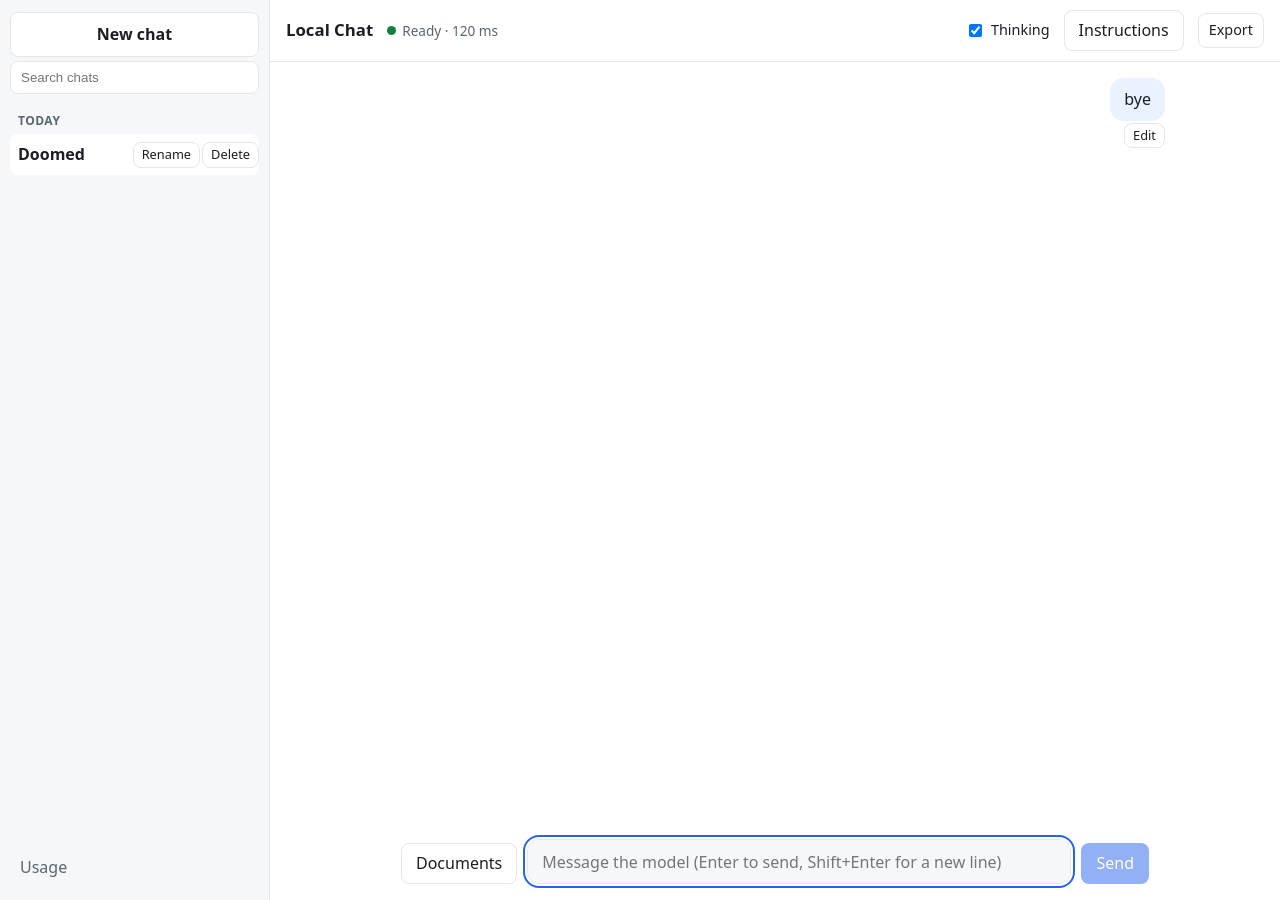
Test: saved conversations › deletes a chat only after confirmation, and leaves the open chat when it is deleted
Expected: the text "bye" is shown, top-left (1110, 78), bottom-right (1165, 121)
Click the button with aria-label "Delete Doomed" at (231, 155), box top-left (202, 142), bottom-right (259, 168)
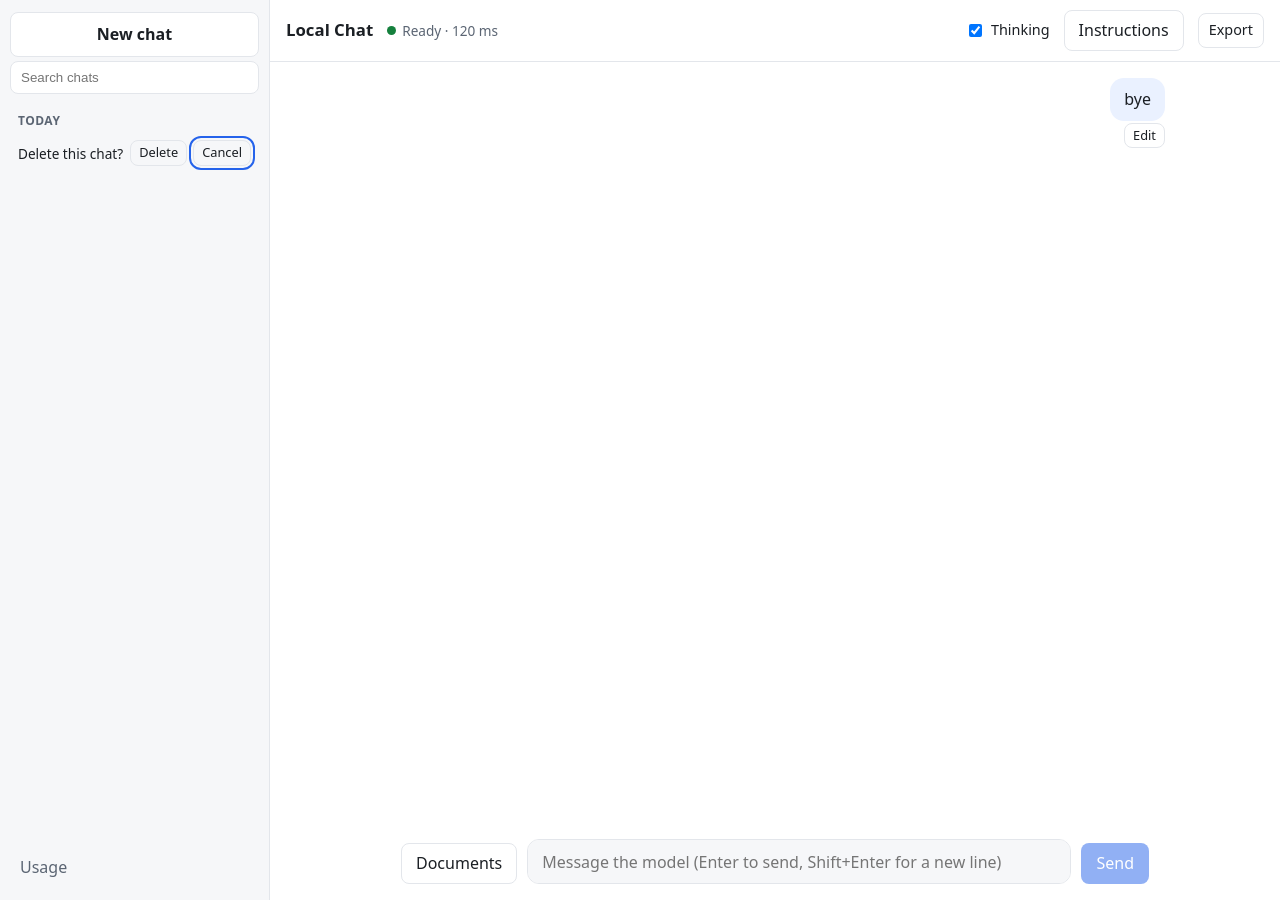
Click the button "Cancel" at (222, 153), box top-left (193, 140), bottom-right (251, 166)
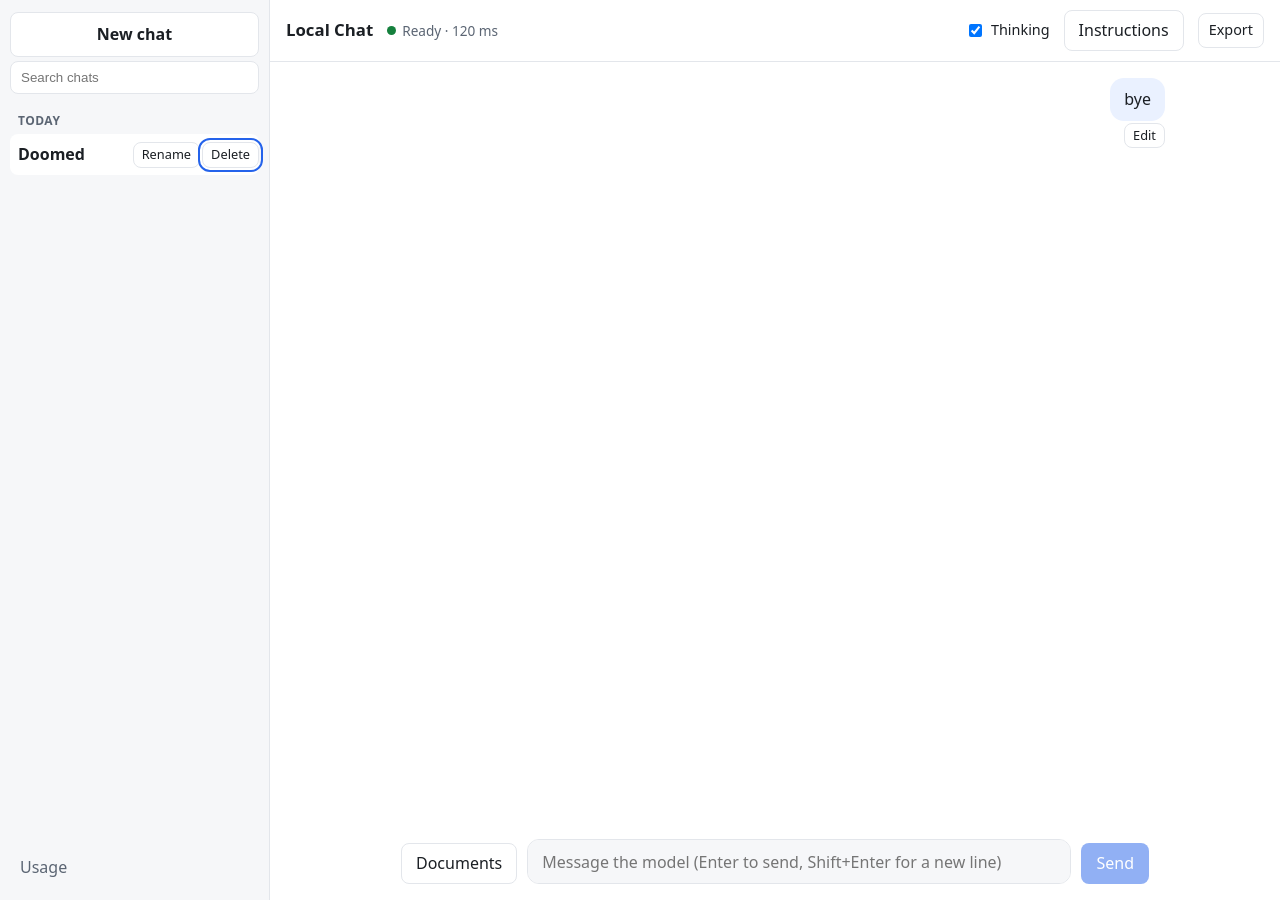
Click the button with aria-label "Delete Doomed" at (231, 155), box top-left (202, 142), bottom-right (259, 168)
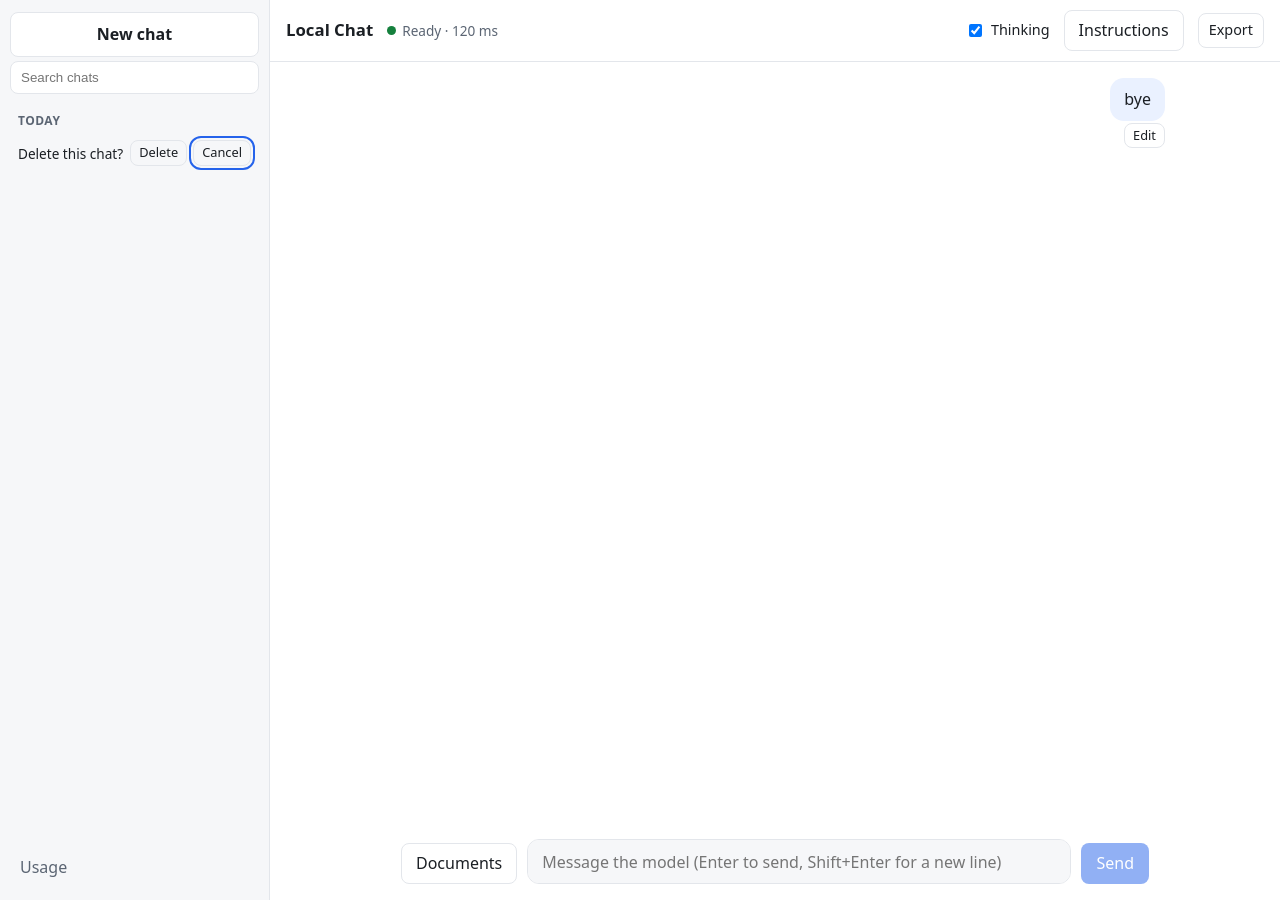
Click the button "Delete" at (159, 153), box top-left (130, 140), bottom-right (187, 166)
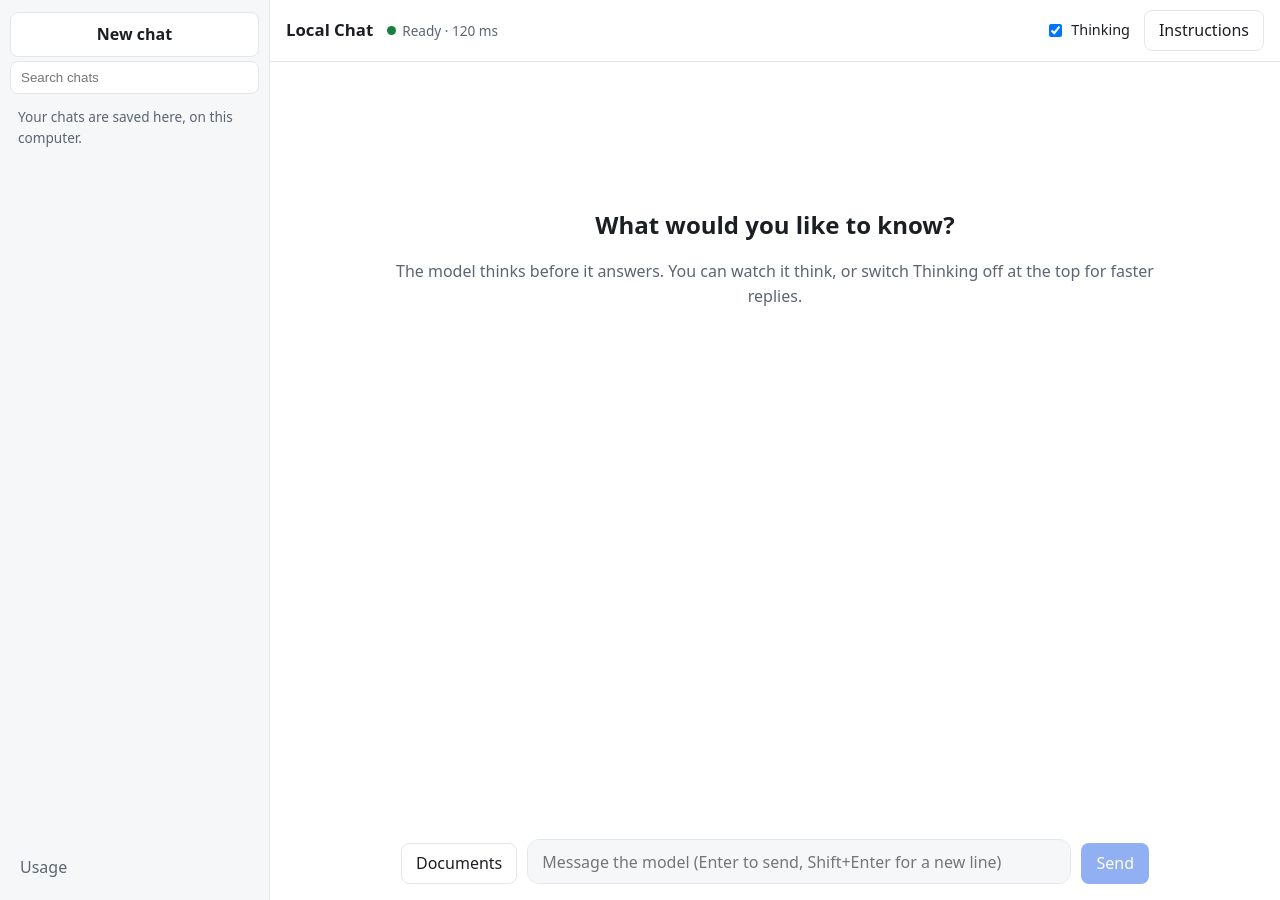
Expected: the button "Doomed" is not shown
Expected: the heading "What would you like to know?" is shown, top-left (595, 208), bottom-right (955, 241)
